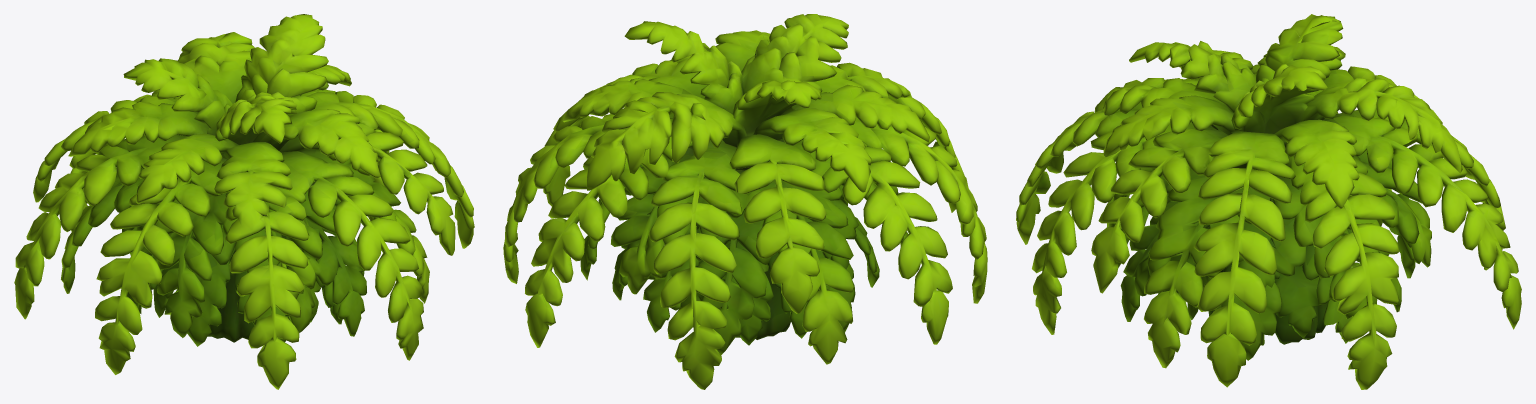
The model's file is fern.glb.
The picture shows the model from 3 angles, left to right: view 1: azimuth 30°, elevation 25°; view 2: azimuth 150°, elevation 25°; view 3: azimuth 270°, elevation 25°; orthographic projection. The views are drawn at different scales.
Visible parts, largest first — view 1: tripo_node_2f6522b3-f51e-4e28-874d-a16625cadc50; view 2: tripo_node_2f6522b3-f51e-4e28-874d-a16625cadc50; view 3: tripo_node_2f6522b3-f51e-4e28-874d-a16625cadc50.
Part boxes in pixels (box(x1,y1,x2,y2)): tripo_node_2f6522b3-f51e-4e28-874d-a16625cadc50: box(14, 14, 474, 389); tripo_node_2f6522b3-f51e-4e28-874d-a16625cadc50: box(503, 14, 987, 389); tripo_node_2f6522b3-f51e-4e28-874d-a16625cadc50: box(1016, 14, 1521, 389).
Bounding box in the file's own units: 1.42 × 0.9 × 1.42.
1 material, 1 textured.
